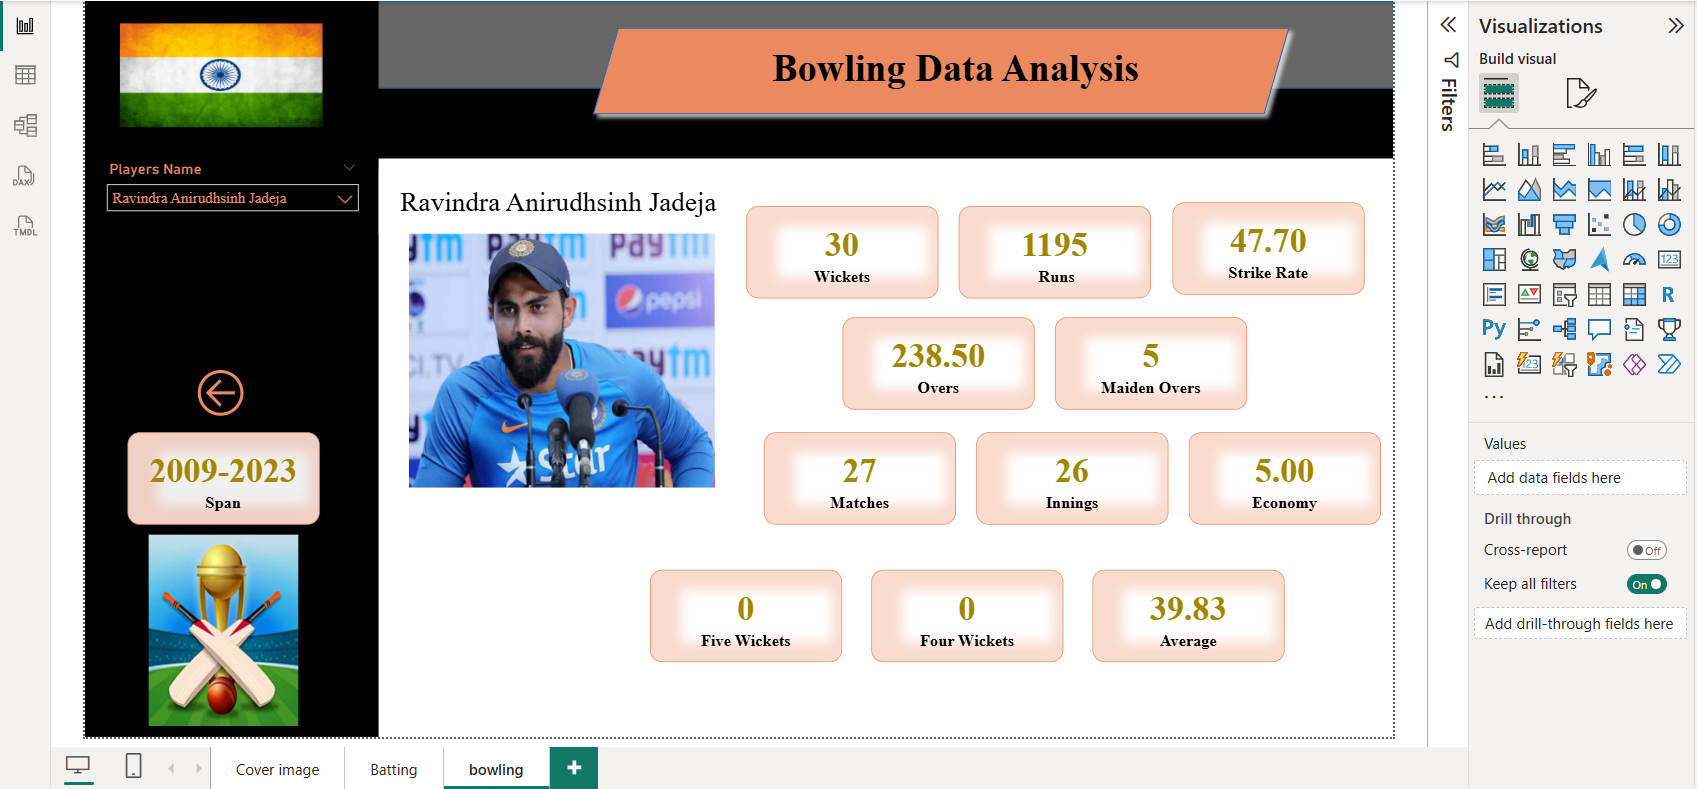

The page's visual inventory and layout, read from the dashboard file:
{"tool":"powerbi","page":{"name":"bowling","canvas":[1280,720],"ordinal":2},"visuals":[{"type":"shape","box":[0,0,1280.3,85.6],"z":0},{"type":"shape","box":[0,85.6,1280.3,68.5],"z":1000},{"type":"shape","box":[0,0,287.4,94.2],"z":2000},{"type":"shape","box":[487.9,17.1,699.5,102.7],"z":3000},{"type":"image","box":[29.3,17.1,207.9,111.3],"z":4000},{"type":"textbox","box":[0,145.3,287.4,574.7],"z":5000},{"type":"card","fields":{"Values":["Min(Sheet2.Merged_span)"]},"box":[41.6,421.9,188.3,90.5],"z":6000},{"type":"card","fields":{"Values":["Sum(Sheet2.Ave)"]},"box":[985.6,556.4,188.3,90.5],"z":7000},{"type":"card","fields":{"Values":["Sum(Sheet2.4)"]},"box":[769.2,556.4,188.3,90.5],"z":8000},{"type":"card","fields":{"Values":["Sum(Sheet2.5)"]},"box":[552.7,556.4,188.3,90.5],"z":9000},{"type":"card","fields":{"Values":["Sum(Sheet2.Econ)"]},"box":[1079.8,421.9,188.3,90.5],"z":10000},{"type":"card","fields":{"Values":["Sum(Sheet2.Inns)"]},"box":[871.9,421.9,188.3,90.5],"z":11000},{"type":"card","fields":{"Values":["Sum(Sheet2.Mat)"]},"box":[664,421.9,188.3,90.5],"z":12000},{"type":"card","fields":{"Values":["Sum(Sheet2.Overs)"]},"box":[741,309.4,188.3,90.5],"z":13000},{"type":"card","fields":{"Values":["Sum(Sheet2.Runs)"]},"box":[854.9,200.5,188.3,90.5],"z":14000},{"type":"card","fields":{"Values":["Sum(Sheet2.Mdns)"]},"box":[948.9,309.4,188.3,90.5],"z":15000},{"type":"card","fields":{"Values":["Sum(Sheet2.SR)"]},"box":[1063.4,196.9,188.3,90.5],"z":16000},{"type":"card","fields":{"Values":["Sum(Sheet2.Wkts)"]},"box":[646.4,200.5,188.3,90.5],"z":17000},{"type":"actionButton","box":[103.9,354.6,81.9,57.5],"z":18000},{"type":"image","box":[57.5,517.3,156.5,196.9],"z":19000},{"type":"slicer","fields":{"Values":["Nametable_batting.Players Name"]},"box":[11,150.4,266.6,77],"z":20000},{"type":"textbox","box":[576,39.1,551.5,57.5],"z":21000},{"type":"tableEx","fields":{"Values":["battingimageurl.imageurlbatting"]},"box":[305.7,192,325.3,344.8],"z":22000},{"type":"card","fields":{"Values":["Min(Nametable_batting.Players Name)"]},"box":[287.4,165.1,352.2,62.4],"z":23000}]}

Visuals, with their boxes on the page's 1280x720 design canvas (x1, y1, x2, y2). These are canvas units, not pixel positions in the 1697x789 screenshot, which may show the page scaled, cropped or inside an application window:
shape: <region>0, 0, 1280, 86</region>
shape: <region>0, 86, 1280, 154</region>
shape: <region>0, 0, 287, 94</region>
shape: <region>488, 17, 1187, 120</region>
image: <region>29, 17, 237, 128</region>
textbox: <region>0, 145, 287, 720</region>
card - Min(Sheet2.Merged_span): <region>42, 422, 230, 512</region>
card - Sum(Sheet2.Ave): <region>986, 556, 1174, 647</region>
card - Sum(Sheet2.4): <region>769, 556, 958, 647</region>
card - Sum(Sheet2.5): <region>553, 556, 741, 647</region>
card - Sum(Sheet2.Econ): <region>1080, 422, 1268, 512</region>
card - Sum(Sheet2.Inns): <region>872, 422, 1060, 512</region>
card - Sum(Sheet2.Mat): <region>664, 422, 852, 512</region>
card - Sum(Sheet2.Overs): <region>741, 309, 929, 400</region>
card - Sum(Sheet2.Runs): <region>855, 200, 1043, 291</region>
card - Sum(Sheet2.Mdns): <region>949, 309, 1137, 400</region>
card - Sum(Sheet2.SR): <region>1063, 197, 1252, 287</region>
card - Sum(Sheet2.Wkts): <region>646, 200, 835, 291</region>
actionButton: <region>104, 355, 186, 412</region>
image: <region>58, 517, 214, 714</region>
slicer - Nametable_batting.Players Name: <region>11, 150, 278, 227</region>
textbox: <region>576, 39, 1128, 97</region>
tableEx - battingimageurl.imageurlbatting: <region>306, 192, 631, 537</region>
card - Min(Nametable_batting.Players Name): <region>287, 165, 640, 228</region>
